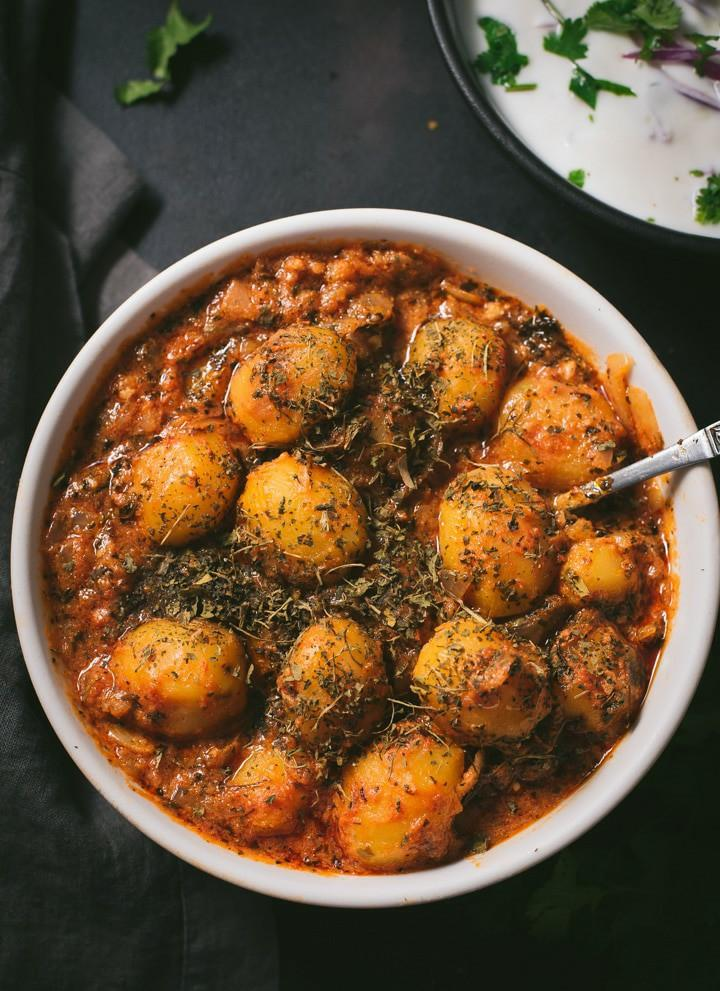DumAloo: (37, 230, 668, 877)
